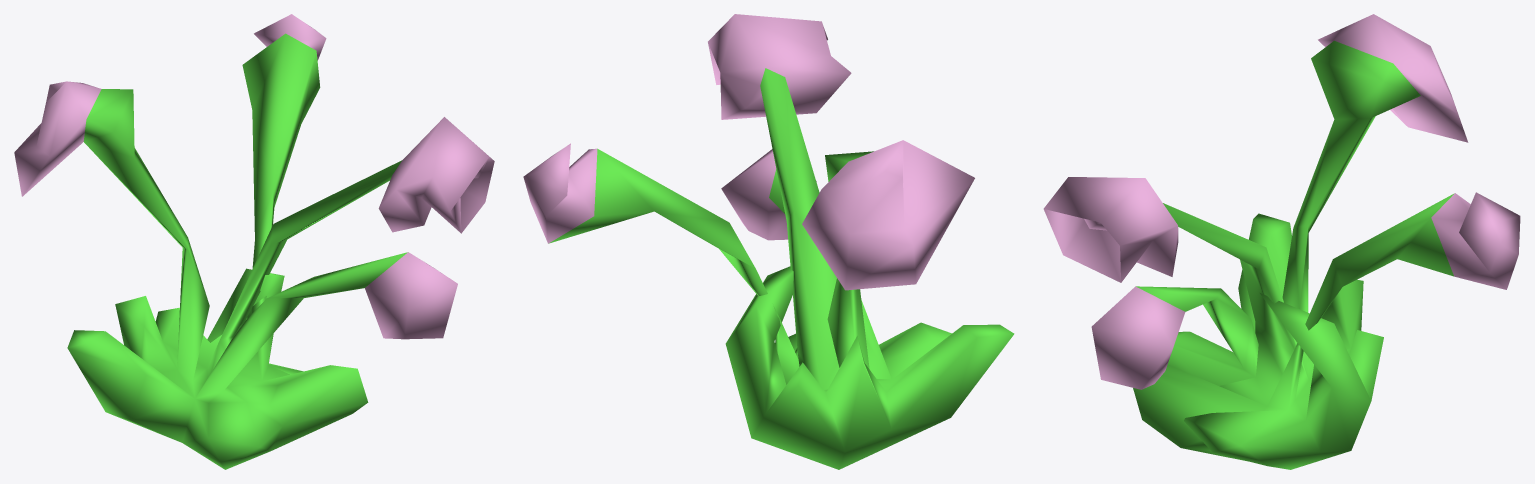
File: grass-h.glb
3 renders of one model, left to right at view 1: azimuth 30°, elevation 25°; view 2: azimuth 150°, elevation 25°; view 3: azimuth 270°, elevation 25°, orthographic. The views are drawn at different scales.
Visible parts, largest first — view 1: grass-h.001; view 2: grass-h.001; view 3: grass-h.001.
Part boxes in pixels (bbox=[...]): grass-h.001: bbox=[14, 14, 494, 469]; grass-h.001: bbox=[523, 14, 1014, 469]; grass-h.001: bbox=[1043, 14, 1520, 469].
Size of the model in its own units: 2.89 by 2.78 by 3.1.
